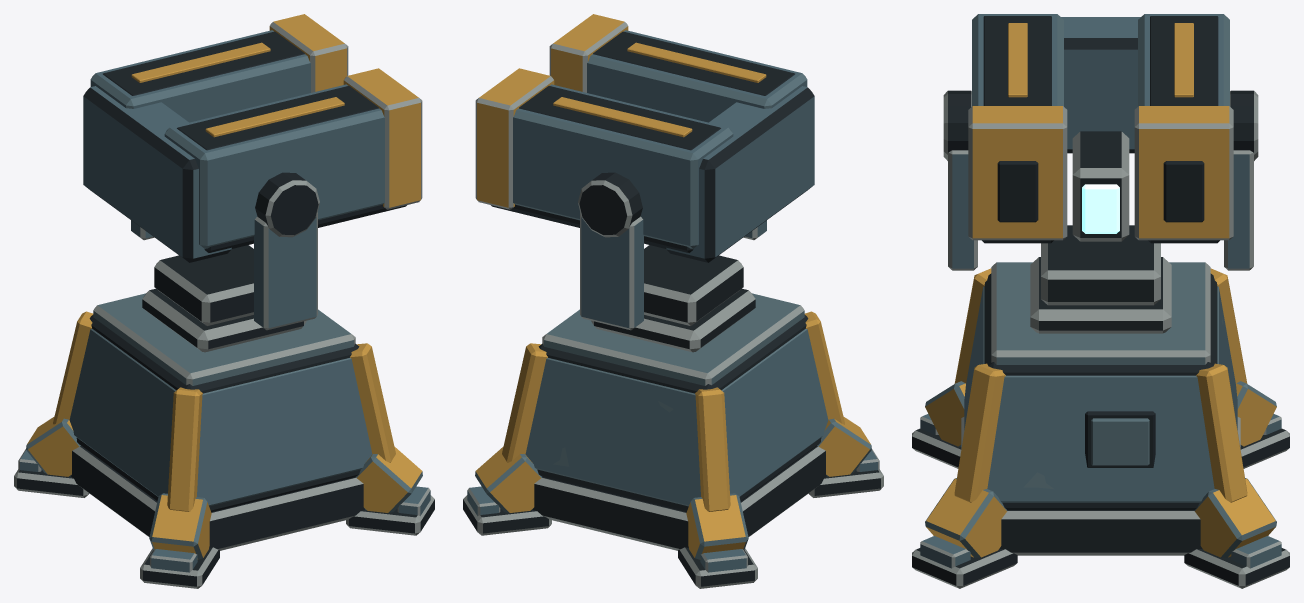
The model's file is laser_tower.glb.
3 renders of one model, left to right at view 1: azimuth 30°, elevation 25°; view 2: azimuth 150°, elevation 25°; view 3: azimuth 270°, elevation 25°, orthographic. The views are drawn at different scales.
Visible parts, largest first — view 1: Tapered petrol armour, Emitter rail armour -0.235, Laser rear bridge, Ground plinth, Top rim, Emitter rail armour 0.235, Laser tilt support -1, Laser yaw bearing, Emitter ochre nose -0.235, Emitter rail seam -0.235, Pedestal dark seams, Emitter rail seam 0.235 (+16 smaller); view 2: Tapered petrol armour, Emitter rail armour 0.235, Laser rear bridge, Ground plinth, Top rim, Emitter rail armour -0.235, Laser tilt support 1, Laser yaw bearing, Emitter ochre nose 0.235, Emitter rail seam 0.235, Pedestal dark seams, Emitter rail seam -0.235 (+16 smaller); view 3: Tapered petrol armour, Top rim, Emitter ochre nose 0.235, Emitter ochre nose -0.235, Ground plinth, Laser rear bridge, Laser yaw bearing, Yaw bearing lower, Emitter rail seam 0.235, Emitter rail seam -0.235, Pedestal dark seams, Amber chamber surround (+27 smaller).
Part boxes in pixels (x1,y1,x2,y2): Tapered petrol armour: [69, 329, 372, 506]; Emitter rail armour -0.235: [164, 84, 384, 248]; Laser rear bridge: [83, 86, 232, 262]; Ground plinth: [71, 446, 365, 550]; Top rim: [93, 293, 355, 385]; Emitter rail armour 0.235: [90, 30, 310, 122]; Laser tilt support -1: [254, 212, 317, 330]; Laser yaw bearing: [154, 245, 253, 325]; Emitter ochre nose -0.235: [343, 68, 422, 209]; Emitter rail seam -0.235: [177, 86, 406, 252]; Pedestal dark seams: [76, 315, 360, 511]; Emitter rail seam 0.235: [103, 31, 304, 95]; Tapered petrol armour: [525, 329, 828, 506]; Emitter rail armour 0.235: [513, 84, 733, 248]; Laser rear bridge: [665, 86, 814, 262]; Ground plinth: [532, 446, 826, 550]; Top rim: [542, 293, 804, 385]; Emitter rail armour -0.235: [587, 30, 807, 122]; Laser tilt support 1: [580, 212, 643, 330]; Laser yaw bearing: [644, 245, 743, 325]; Emitter ochre nose 0.235: [475, 68, 554, 209]; Emitter rail seam 0.235: [491, 86, 720, 252]; Pedestal dark seams: [537, 315, 821, 511]; Emitter rail seam -0.235: [593, 31, 794, 95]; Tapered petrol armour: [964, 286, 1237, 502]; Top rim: [991, 262, 1210, 364]; Emitter ochre nose 0.235: [1134, 106, 1233, 240]; Emitter ochre nose -0.235: [968, 106, 1067, 240]; Ground plinth: [961, 417, 1240, 555]; Laser rear bridge: [1061, 17, 1140, 153]; Laser yaw bearing: [1041, 225, 1160, 305]; Yaw bearing lower: [1030, 257, 1171, 333]; Emitter rail seam 0.235: [1148, 16, 1219, 243]; Emitter rail seam -0.235: [982, 16, 1053, 243]; Pedestal dark seams: [984, 273, 1217, 509]; Amber chamber surround: [1072, 131, 1129, 241].
Size of the model in its own units: 1.1 by 1.44 by 1.07.
